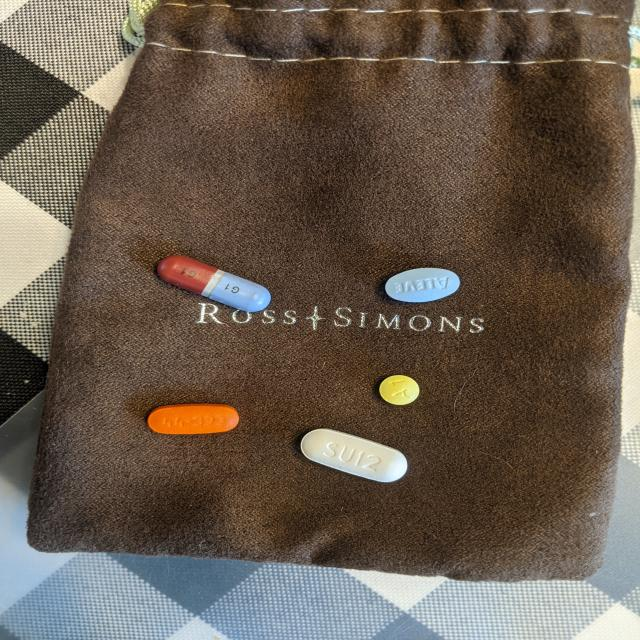non-organic waste: (156, 254, 272, 313), (300, 428, 409, 483), (146, 402, 240, 436), (384, 266, 462, 303), (378, 374, 421, 406)
